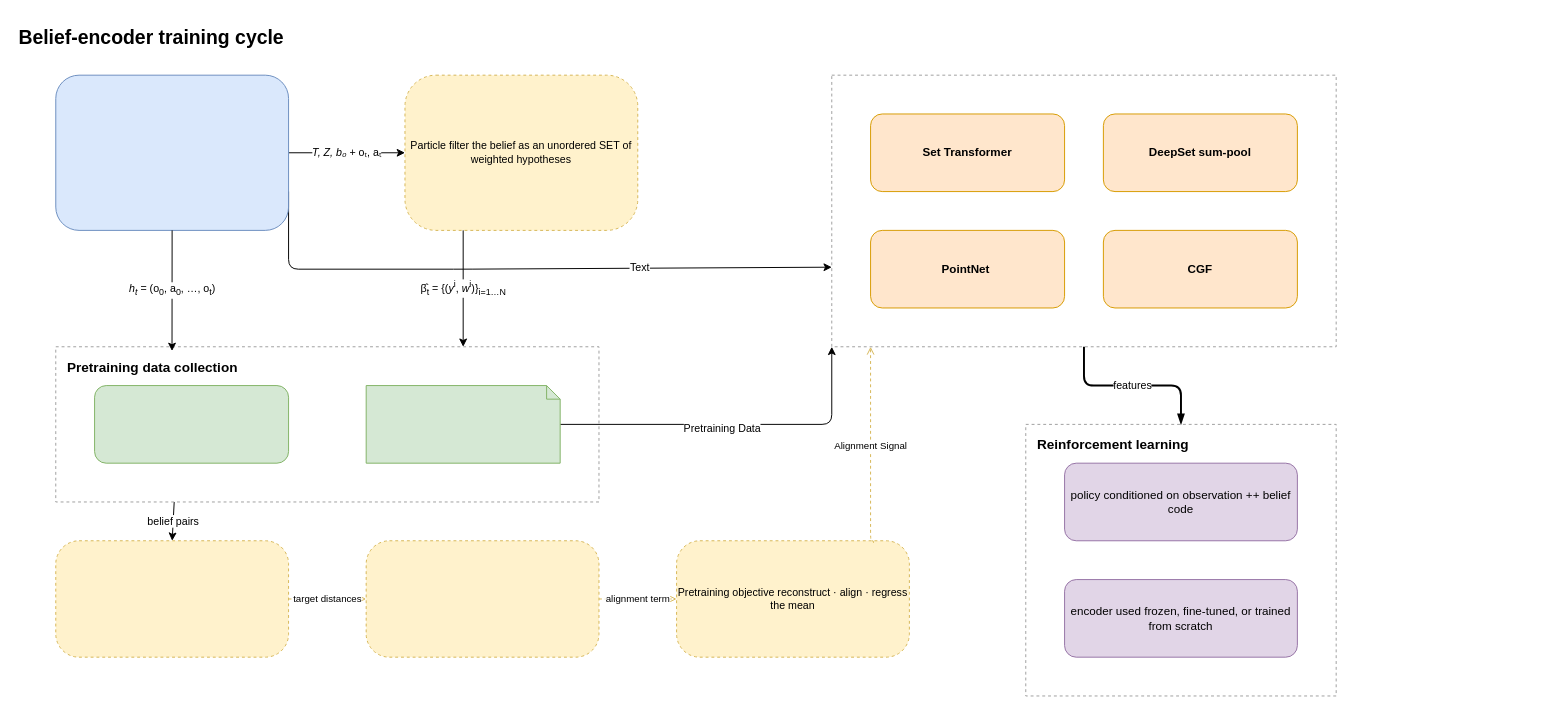
Image size: 1566x713. Some labels were removed from this diagram. Each missing label, with the box of its shape:
belief snapshots [ N × particles × d ]: (365, 385, 560, 463)
Latent metric alignment similar beliefs → similar codes: (365, 540, 599, 657)
Pairwise belief distance (EMD between particle sets): (55, 540, 289, 657)
POMDP Environment (S, A, O, T, Z, R, γ, b₀): (55, 74, 289, 230)
roll the same belief pipeline the agent will run: (94, 385, 289, 463)
